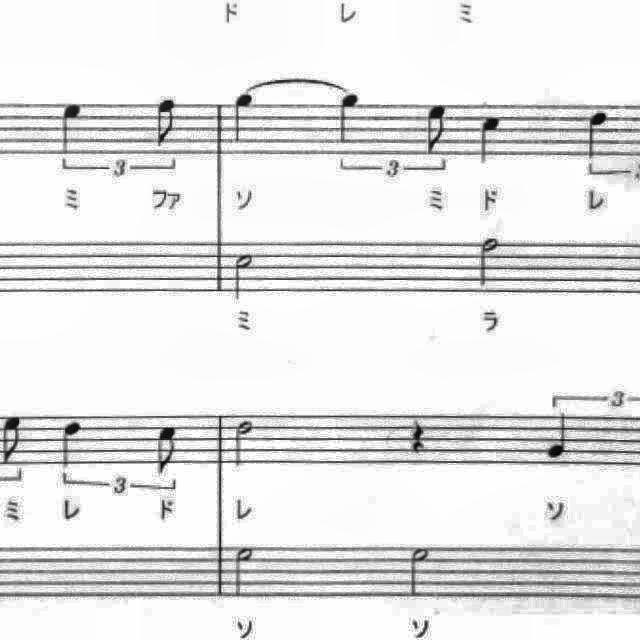Eighth-note: (419, 98, 457, 162), (150, 94, 186, 154), (152, 422, 186, 482), (0, 409, 28, 467)
Half-note: (400, 540, 436, 602), (226, 247, 262, 306), (228, 540, 262, 602), (473, 232, 507, 294), (229, 415, 261, 473)
Quarter-note: (472, 108, 511, 172), (579, 104, 617, 168), (226, 89, 264, 151), (54, 98, 90, 162), (541, 410, 579, 466), (333, 87, 367, 149), (55, 415, 89, 473)
Quarter-rest: (403, 412, 433, 458)
